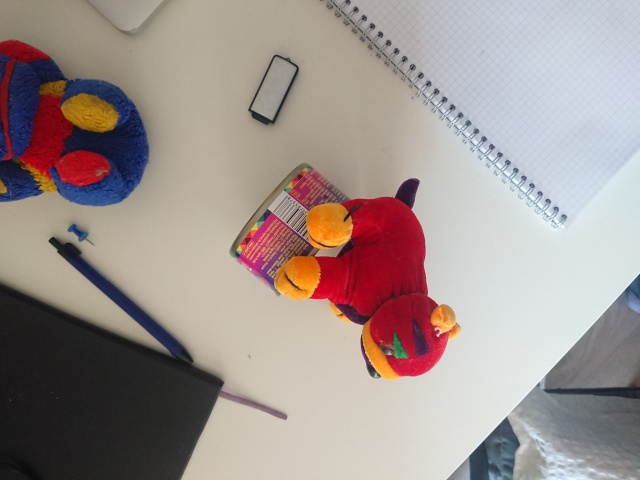Giana Tuna Salad Mexico 185g: (226, 160, 367, 299)
